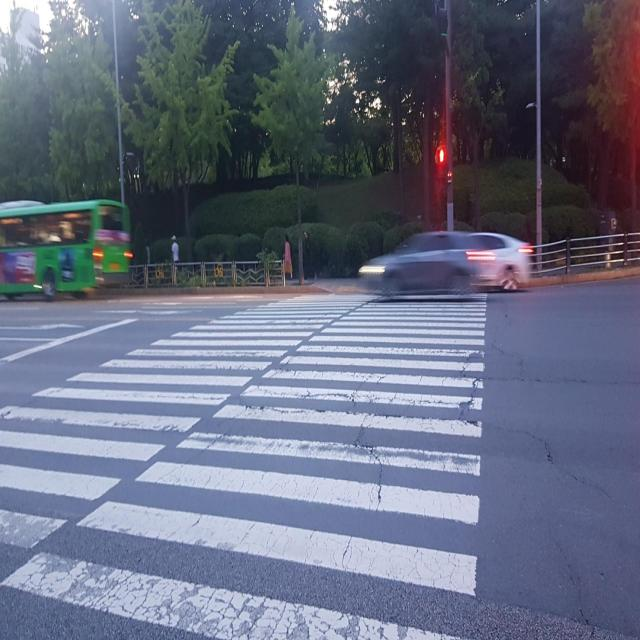빨간불: (435, 142, 447, 183)
횡단보도: (0, 284, 491, 639)
